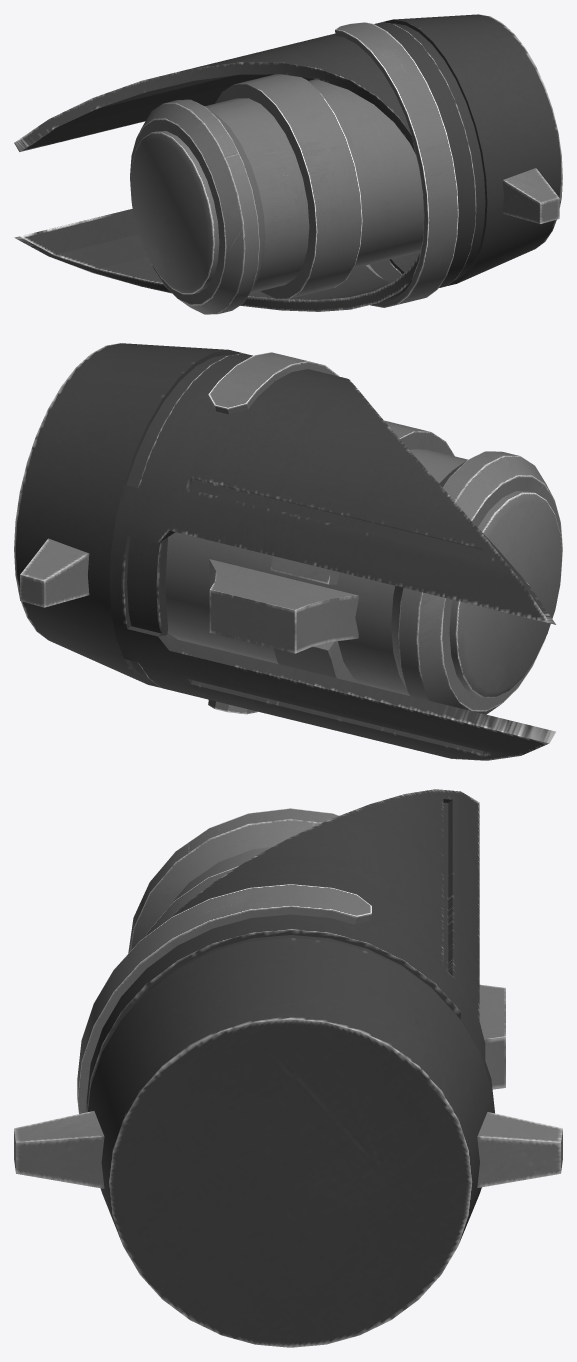
The model's file is pommel_18_r_a.glb.
3 renders of one model, top to bottom at view 1: azimuth 30°, elevation 25°; view 2: azimuth 150°, elevation 25°; view 3: azimuth 270°, elevation 25°, orthographic. The views are drawn at different scales.
Visible parts, largest first — view 1: pommel_18_r_a_lod0; view 2: pommel_18_r_a_lod0; view 3: pommel_18_r_a_lod0.
Boxes of the visible parts, left/top/right/bottom form: pommel_18_r_a_lod0: left=14, top=14, right=562, bottom=314; pommel_18_r_a_lod0: left=14, top=343, right=562, bottom=760; pommel_18_r_a_lod0: left=14, top=789, right=562, bottom=1347.
Size of what is drawn, in the model's own units: 0.0636 by 0.037 by 0.0475.
Materials: 1 (1 with a texture image).
